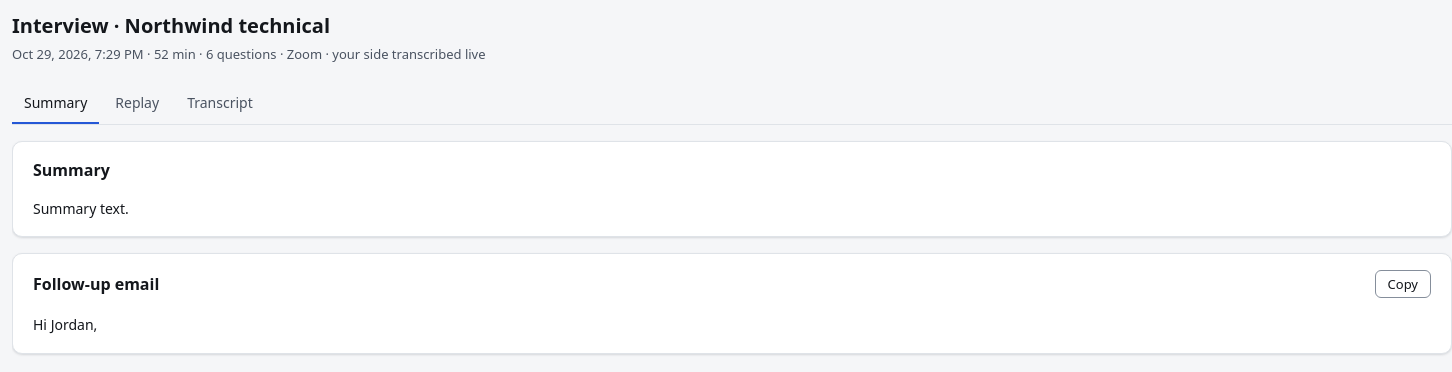
it: A call's detail › ready: outputs, then Replay and Transcript tabs
The width and height of the screenshot is (1452, 372).
Expected: the text "Summary text." is shown, [33, 199, 129, 218]
Expected: the button "Copy" is shown, [1374, 270, 1431, 298]
Click the tab "Transcript": (220, 104) [175, 84, 265, 124]
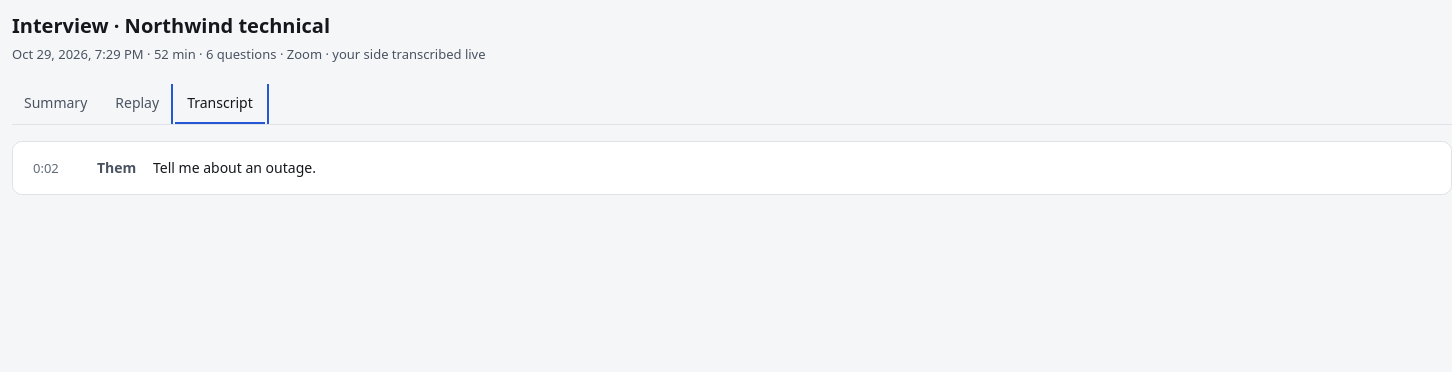
Now the text "Tell me about an outage." is shown, box [153, 158, 316, 177]
